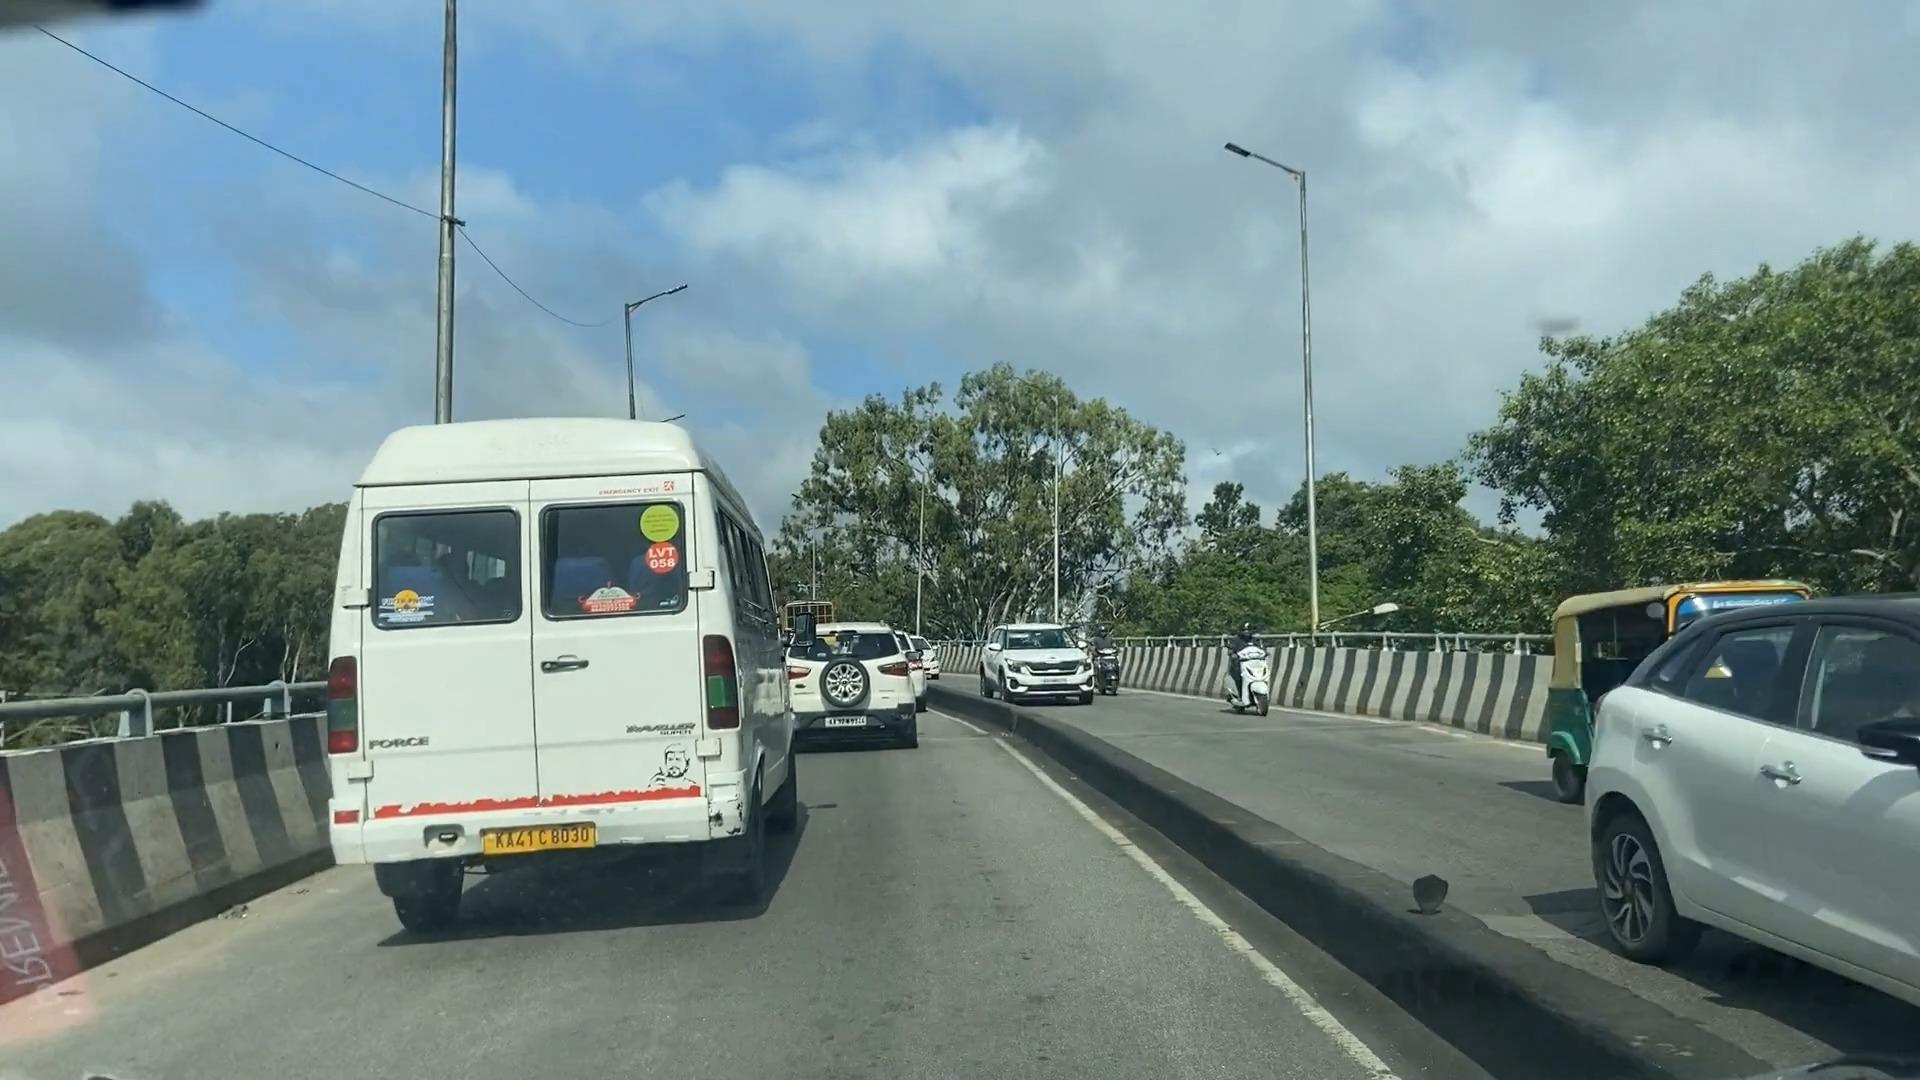HMV: (318, 421, 781, 920)
LMV: (791, 617, 923, 749)
